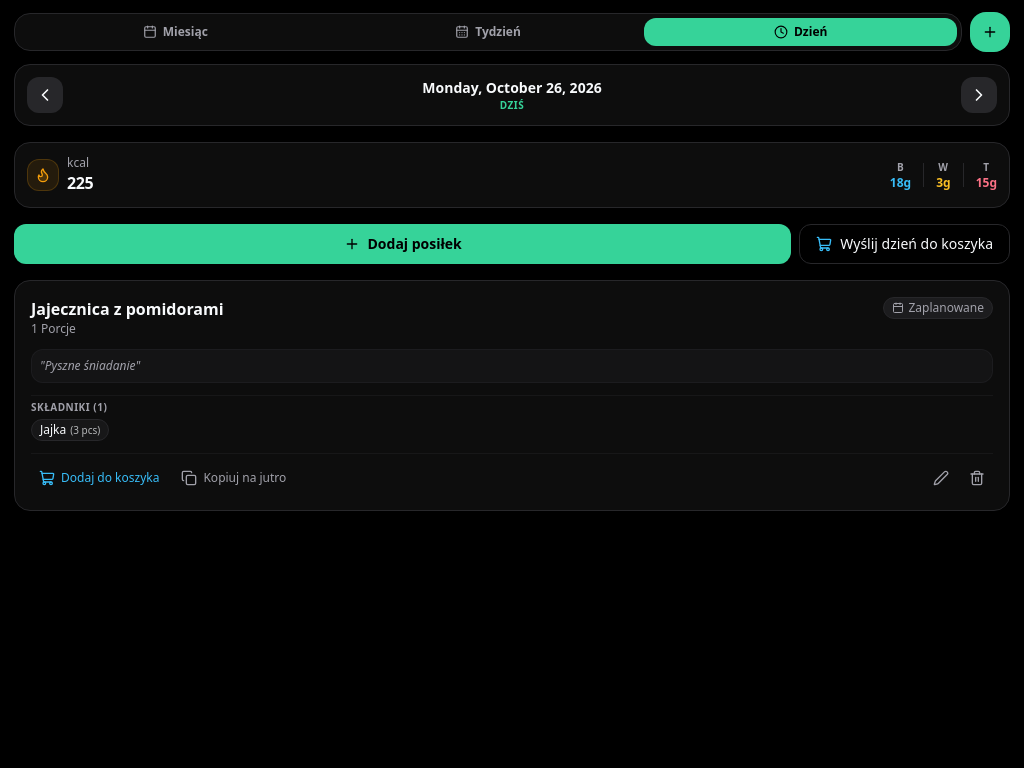
Test: CalendarView - Mobile PWA User Flow Suite (ADR-009) › Flow 03: switches to Week View when clicking Tydzień tab
Click the button "Tydzień".
click(488, 32)  # box [332,18,644,46]
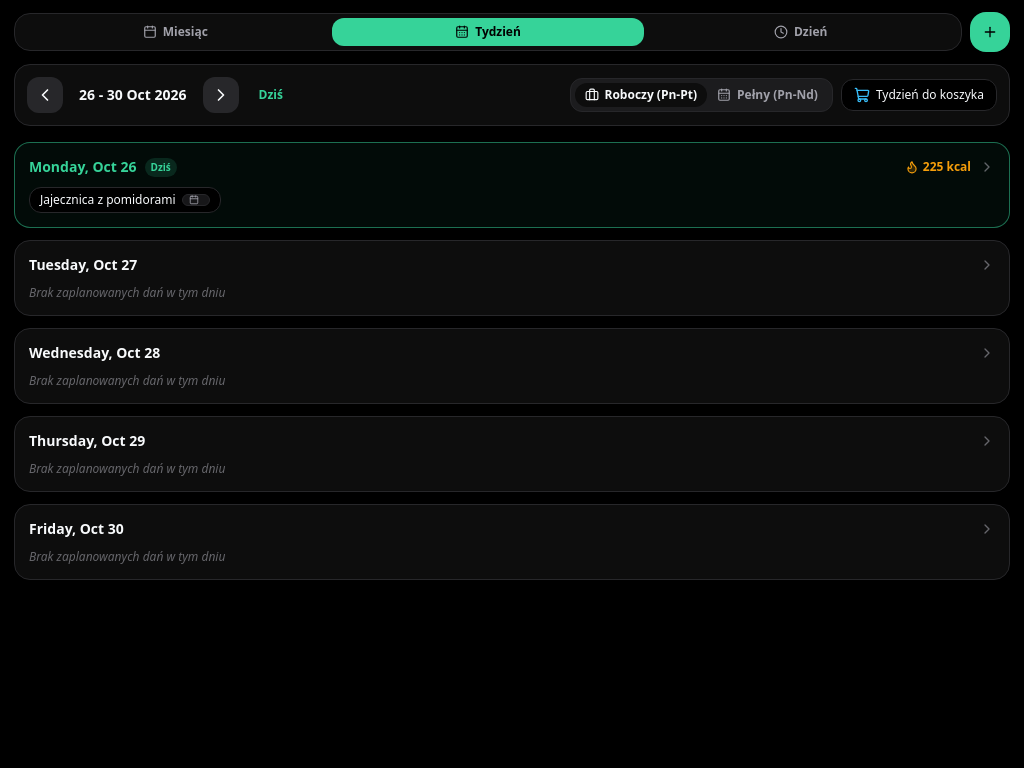
Result: the text "Roboczy (Pn-Pt)" is shown at [604,87,697,103]
Result: the text "Pełny (Pn-Nd)" is shown at [737,87,818,103]
